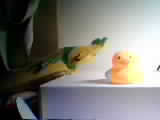duck: (97, 43, 148, 89)
